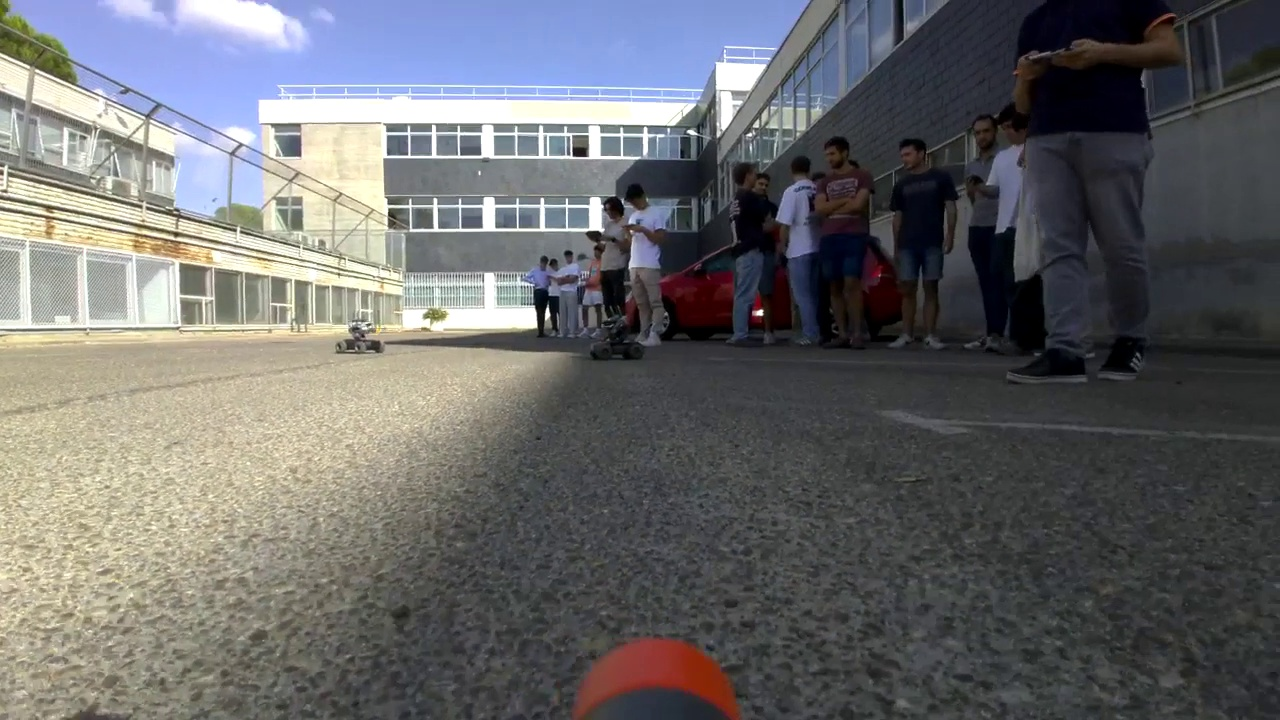robot: (586, 304, 647, 362), (329, 317, 385, 357)
